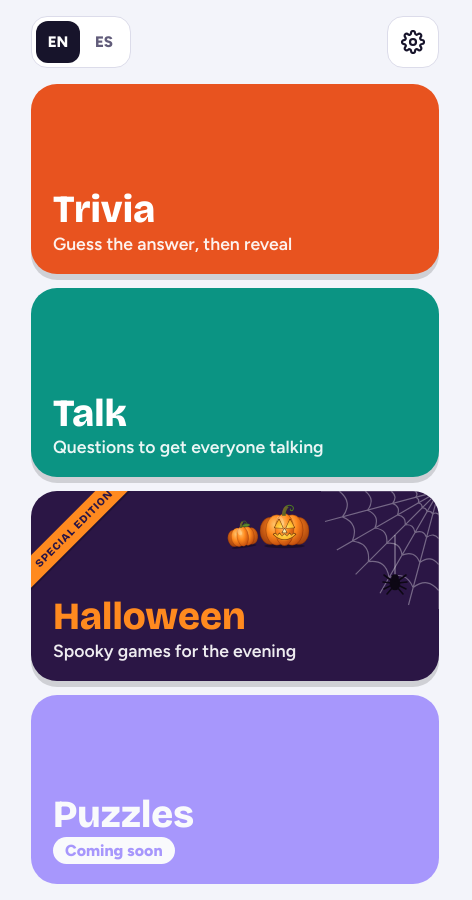
Test: Trivia › deals a different card when the random source differs
The image size is (472, 900).
Click the button "Trivia Guess the answer, then reveal" at [104, 209], box [31,84,439,274]
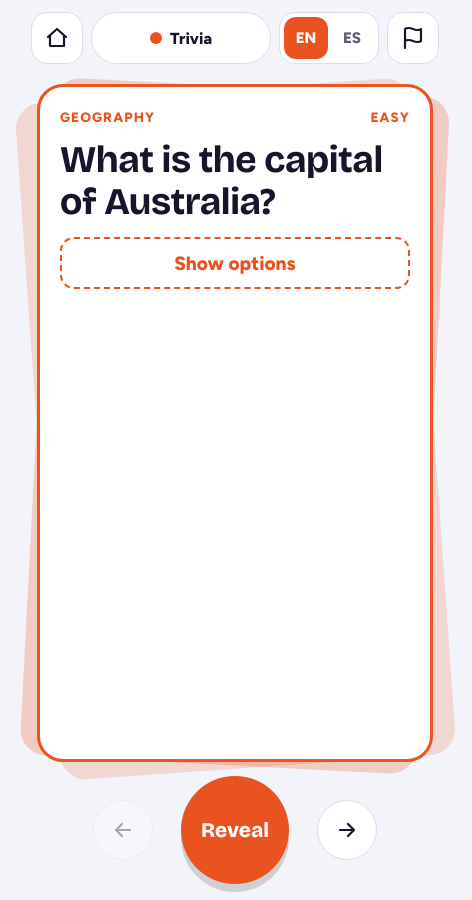
Now the text "What is the capital of Australia?" is shown, box [60,139,410,223]
Now the text "Geography" is shown, box [60,109,155,125]
Now the text "Easy" is shown, box [370,109,410,125]
